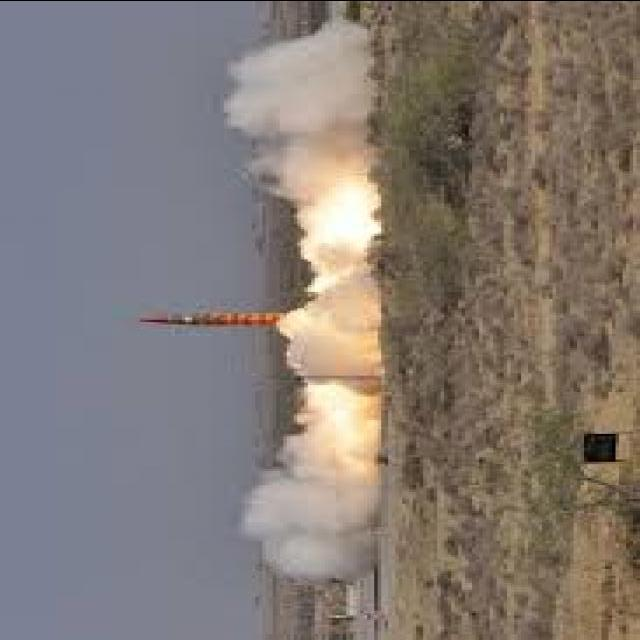Missile: (121, 309, 297, 329)
